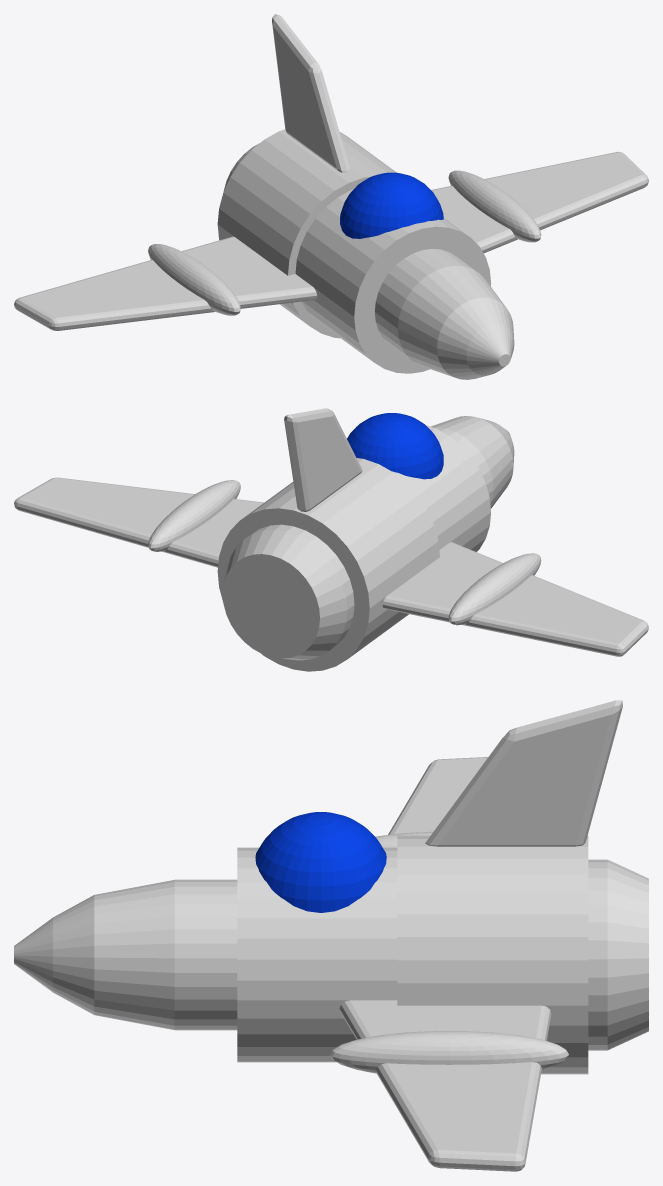
Rendered from fighter.glb.
The picture shows the model from 3 angles, top to bottom: view 1: azimuth 30°, elevation 25°; view 2: azimuth 150°, elevation 25°; view 3: azimuth 270°, elevation 25°; orthographic projection. The views are drawn at different scales.
Parts seen in each view (by area): view 1: Wing, Body先頭, Body真ん中, Body後ろ, 垂直尾翼, Wiindのエンジン, コックピット; view 2: Body後ろ, Wing, Body真ん中, Wiindのエンジン, 垂直尾翼, コックピット, Body先頭; view 3: Body後ろ, Body先頭, Body真ん中, Wing, 垂直尾翼, コックピット, Wiindのエンジン.
Part boxes in pixels (<box>): Wing: <box>14,151,648,330</box>; Body先頭: <box>374,249,514,379</box>; Body真ん中: <box>295,189,490,373</box>; Body後ろ: <box>217,129,396,338</box>; 垂直尾翼: <box>272,14,350,172</box>; Wiindのエンジン: <box>148,170,541,315</box>; コックピット: <box>340,172,443,238</box>; Body後ろ: <box>217,458,439,671</box>; Wing: <box>14,477,648,656</box>; Body真ん中: <box>392,425,490,551</box>; Wiindのエンジン: <box>148,480,541,625</box>; 垂直尾翼: <box>284,408,362,511</box>; コックピット: <box>347,413,443,479</box>; Body先頭: <box>431,416,514,508</box>; Body後ろ: <box>397,835,648,1074</box>; Body先頭: <box>14,879,237,1030</box>; Body真ん中: <box>237,847,397,1062</box>; Wing: <box>339,757,551,1171</box>; 垂直尾翼: <box>425,700,622,846</box>; コックピット: <box>255,812,386,912</box>; Wiindのエンジン: <box>330,831,568,1073</box>.
Bounding box in the file's own units: 4.01 × 1.66 × 2.66.
